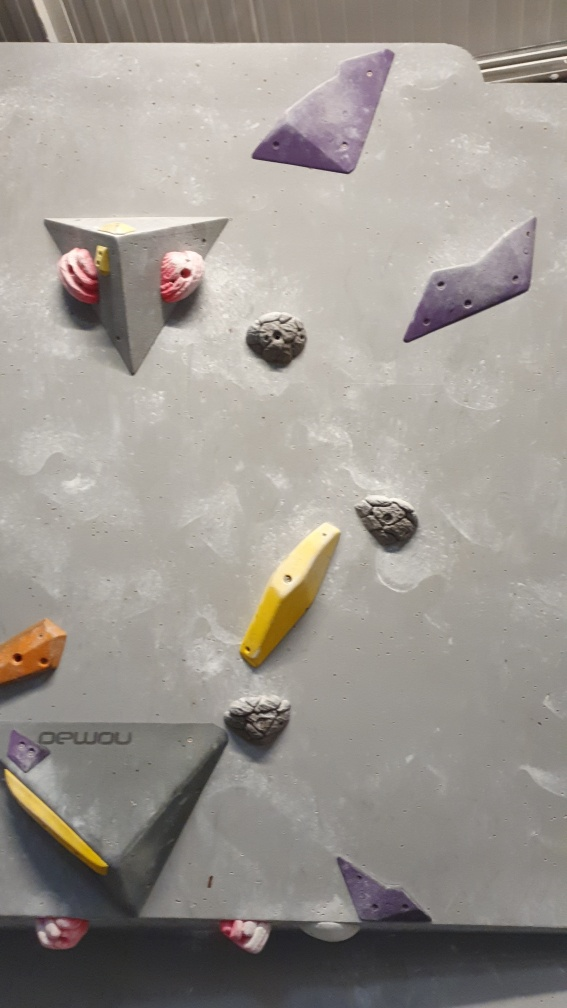Jug: (224, 690, 295, 756), (242, 312, 315, 369), (354, 492, 422, 551), (157, 249, 211, 313), (58, 248, 105, 313), (35, 916, 91, 958), (220, 918, 279, 955)
Pinch: (233, 518, 343, 675), (1, 617, 73, 701)
